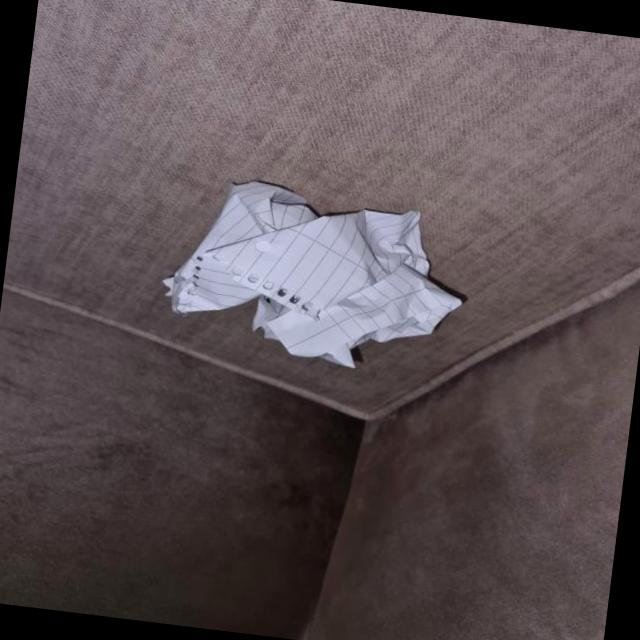cardboard paper: (161, 182, 458, 367)
